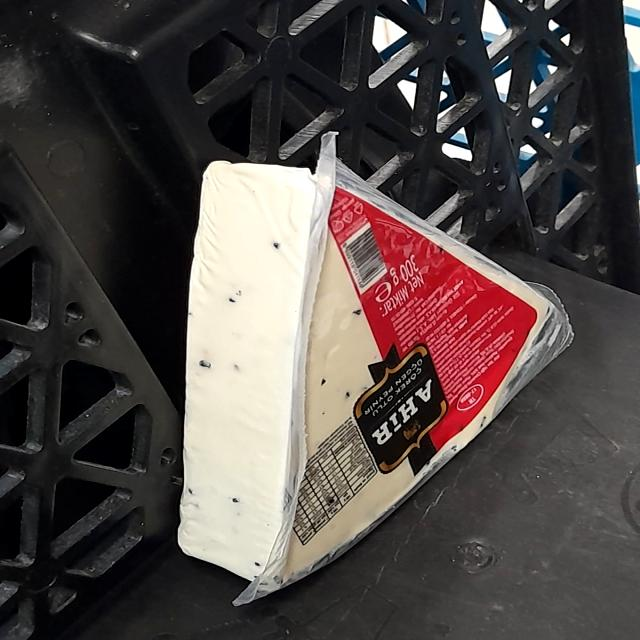cheese: (200, 171, 560, 574)
